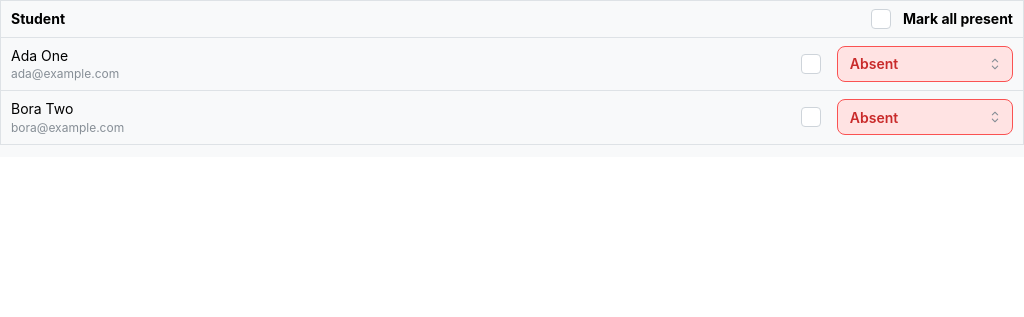
Test case: AttendanceEditor quick marking › clears the checkbox when a non-present status is selected
The image size is (1024, 317).
Click the checkbox named "Mark Ada One present" at (811,64), box [801,54,821,74]
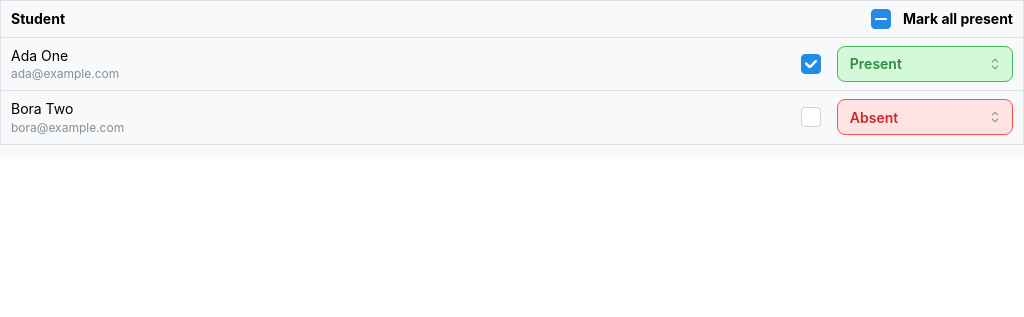
Click the dropdown named "Status" in the row of "Ada One" at (925,64), box [837,46,1013,82]
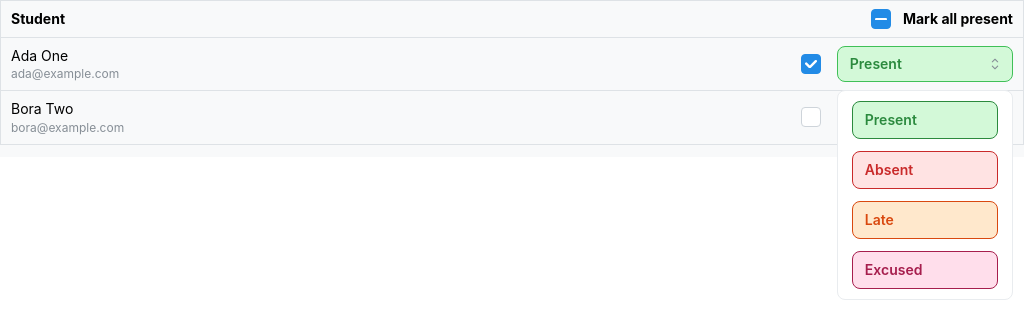
Click the option "Late" at (925,220), box [842,195,1008,245]
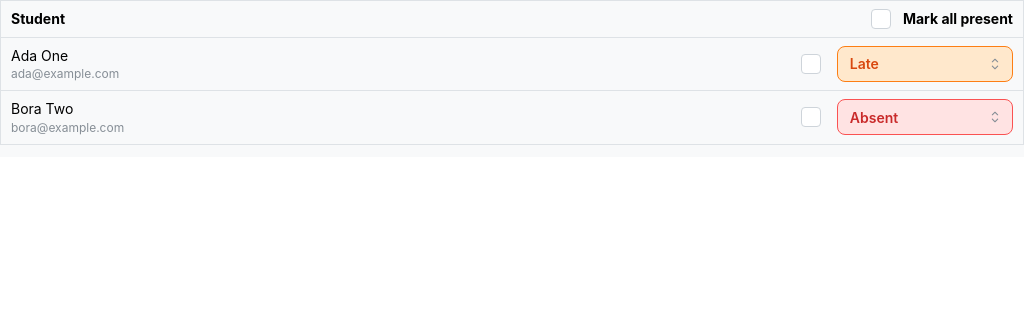
Result: the checkbox named "Mark Ada One present" is not checked at [801,54,821,74]
Result: the dropdown named "Status" in the row of "Ada One" holds "Late" at [837,46,1013,82]
